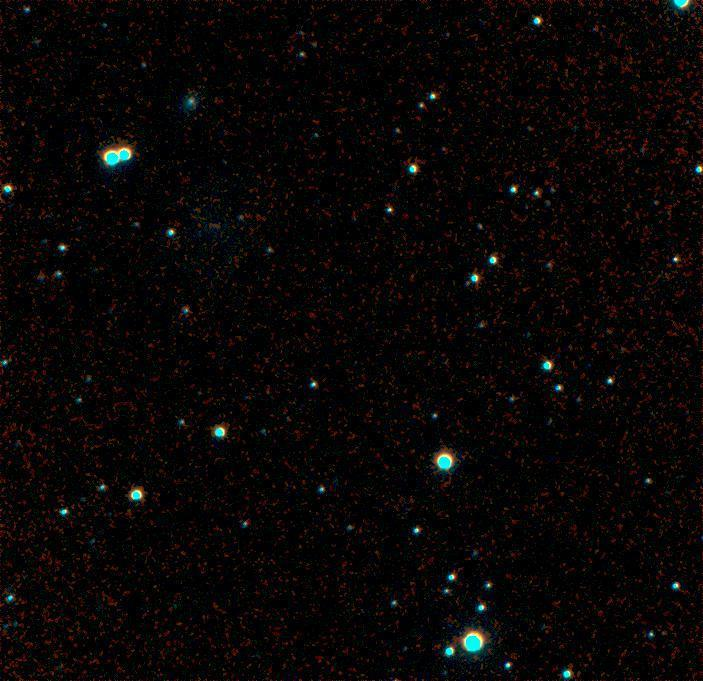star: (362, 537, 392, 567)
